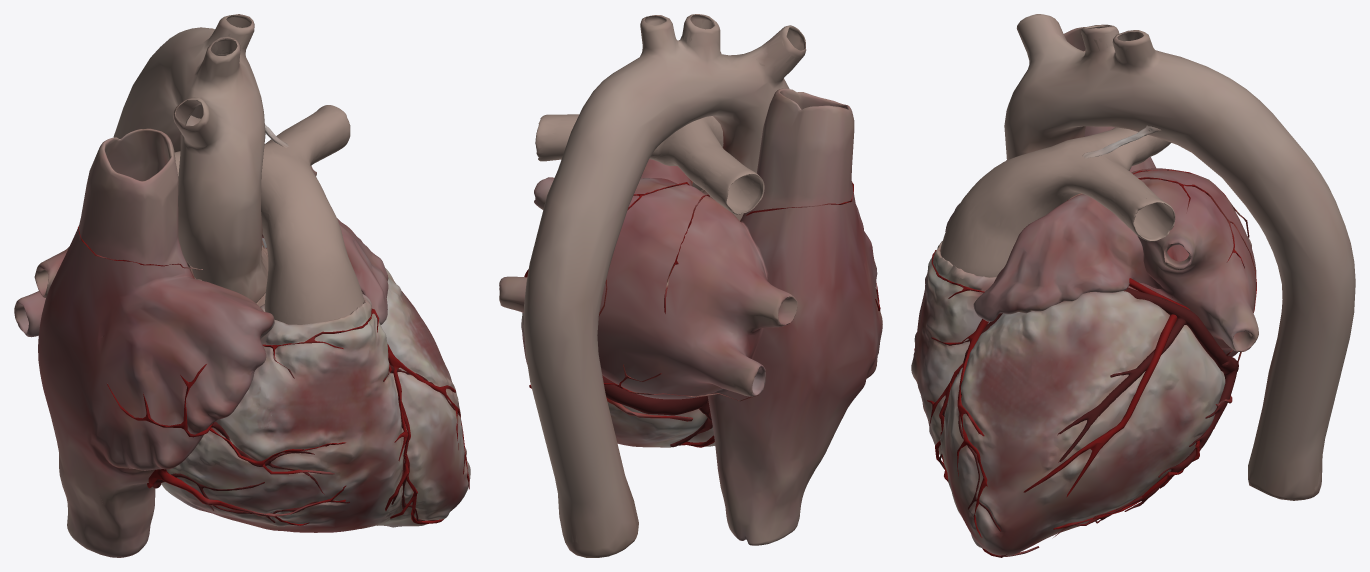
The model's file is human heart.glb.
The picture shows the model from 3 angles, left to right: view 1: azimuth 30°, elevation 25°; view 2: azimuth 150°, elevation 25°; view 3: azimuth 270°, elevation 25°; orthographic projection. The views are drawn at different scales.
Parts seen in each view (by area): view 1: MM634_BP51951_FMA4706_Coronary_sinus835_MM634_BP51951_FMA47, MM634_BP51951_FMA4706_Coronary_sinus835_MM634_BP51951_FMA470, MM634_BP51951_FMA4706_Coronary_sinus835_MM634_BP51951_FMA47.; view 2: MM634_BP51951_FMA4706_Coronary_sinus835_MM634_BP51951_FMA47, MM634_BP51951_FMA4706_Coronary_sinus835_MM634_BP51951_FMA470, MM634_BP51951_FMA4706_Coronary_sinus835_MM634_BP51951_FMA47.; view 3: MM634_BP51951_FMA4706_Coronary_sinus835_MM634_BP51951_FMA47, MM634_BP51951_FMA4706_Coronary_sinus835_MM634_BP51951_FMA470, MM634_BP51951_FMA4706_Coronary_sinus835_MM634_BP51951_FMA47..
Part boxes in pixels (<box>): MM634_BP51951_FMA4706_Coronary_sinus835_MM634_BP51951_FMA47: <box>14,105,470,557</box>; MM634_BP51951_FMA4706_Coronary_sinus835_MM634_BP51951_FMA470: <box>78,14,469,532</box>; MM634_BP51951_FMA4706_Coronary_sinus835_MM634_BP51951_FMA47.: <box>152,124,466,522</box>; MM634_BP51951_FMA4706_Coronary_sinus835_MM634_BP51951_FMA47: <box>499,88,882,545</box>; MM634_BP51951_FMA4706_Coronary_sinus835_MM634_BP51951_FMA470: <box>523,14,880,557</box>; MM634_BP51951_FMA4706_Coronary_sinus835_MM634_BP51951_FMA47.: <box>602,375,712,446</box>; MM634_BP51951_FMA4706_Coronary_sinus835_MM634_BP51951_FMA47: <box>931,27,1258,556</box>; MM634_BP51951_FMA4706_Coronary_sinus835_MM634_BP51951_FMA470: <box>911,14,1355,557</box>; MM634_BP51951_FMA4706_Coronary_sinus835_MM634_BP51951_FMA47.: <box>938,125,1238,552</box>.
Bounding box in the file's own units: 114 × 156 × 130.
